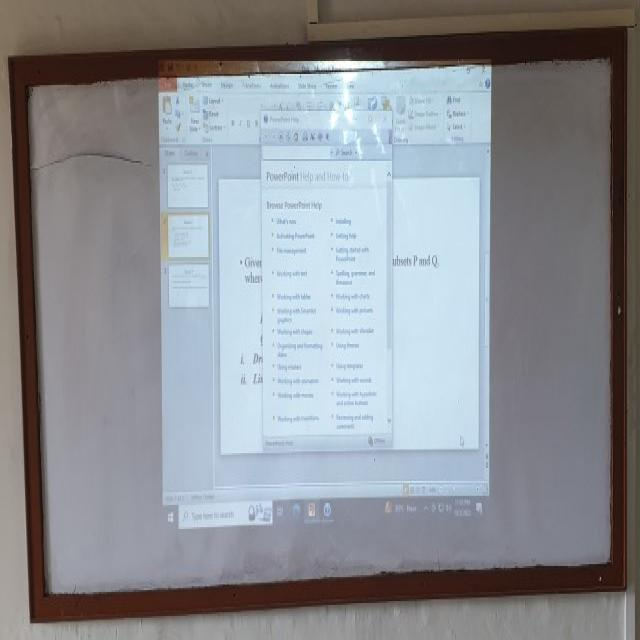Slide: (156, 61, 494, 533)
White-board: (18, 46, 621, 616)
